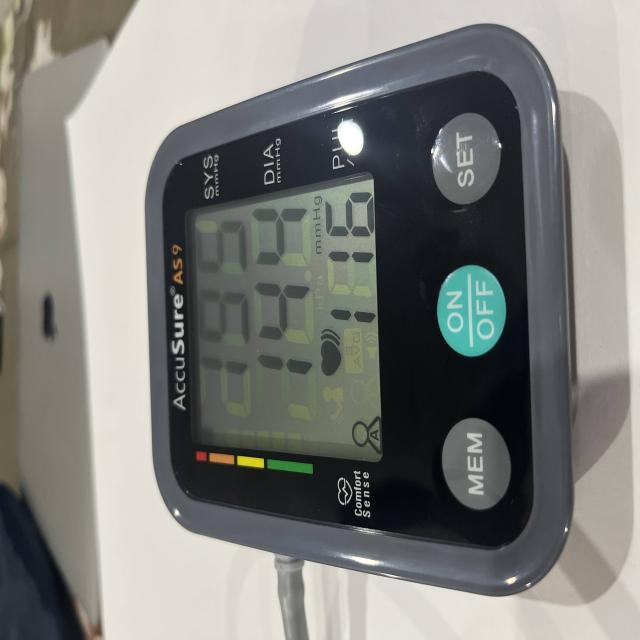bp: (4, 23, 579, 640)
